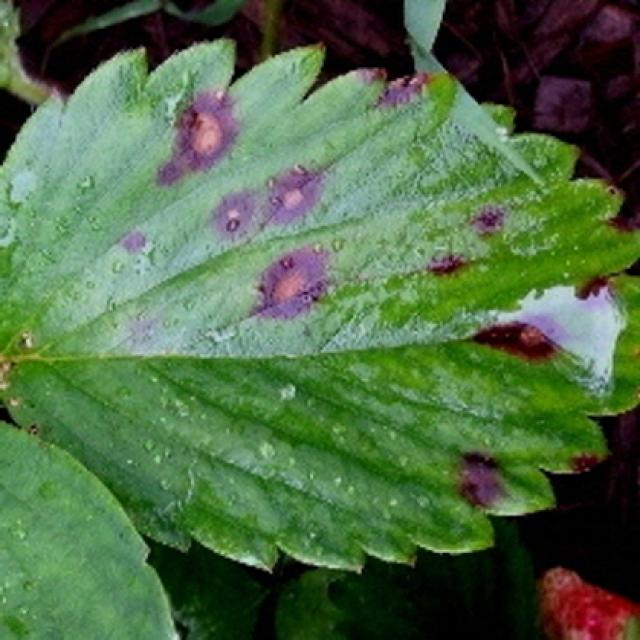Leaf Spot: (2, 39, 640, 577)
Powdery Mildew Fruit: (535, 566, 640, 638)
